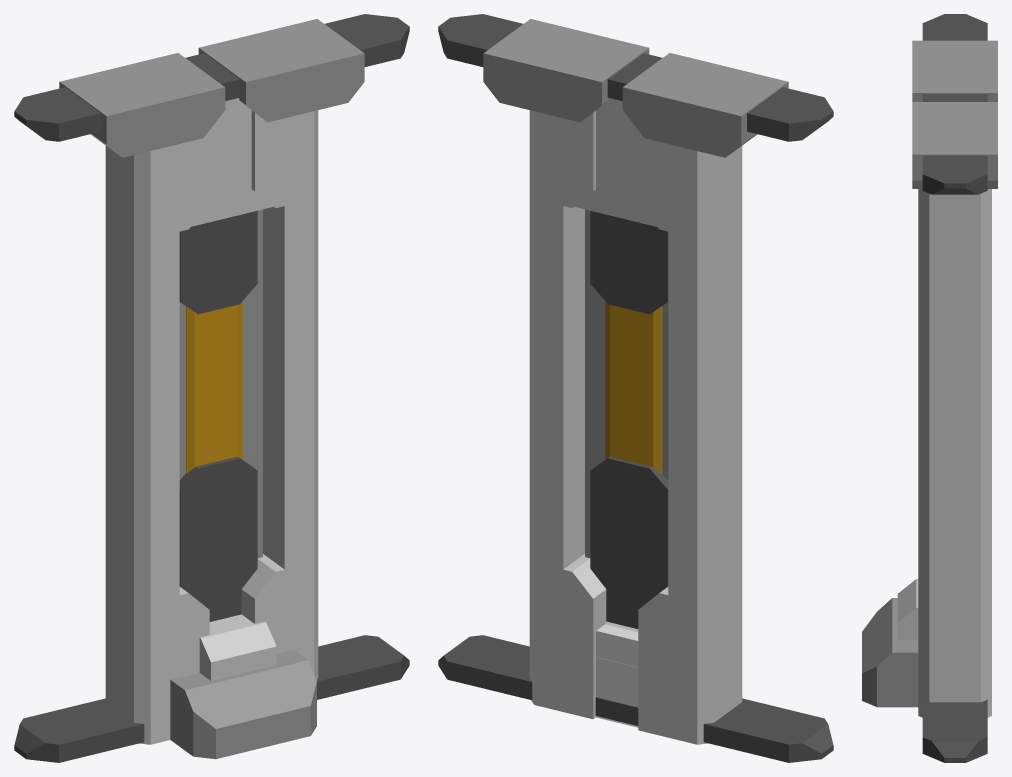
The model's file is SM_Column_3.fbx.
3 renders of one model, left to right at view 1: azimuth 30°, elevation 25°; view 2: azimuth 150°, elevation 25°; view 3: azimuth 270°, elevation 25°, orthographic. The views are drawn at different scales.
Parts seen in each view (by area): view 1: SM_Column_3; view 2: SM_Column_3; view 3: SM_Column_3.
Boxes of the visible parts, x1,y1,x2,y2 form: SM_Column_3: (14,14,409,762); SM_Column_3: (438,14,833,762); SM_Column_3: (862,14,997,762).
Size of the model in its own units: 181 by 291 by 61.44.
